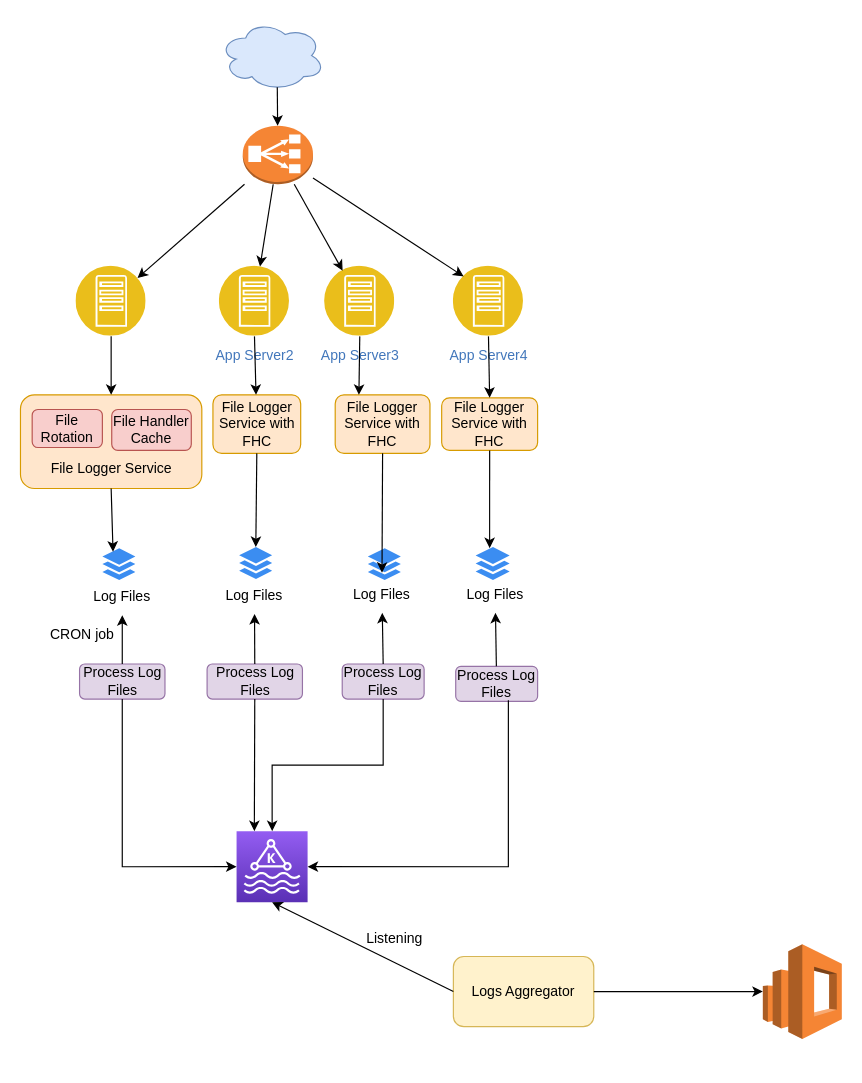
This 862x1083 diagram has some shape labels left out. Here are the shapes that lost their labels. From the top down, the centre of each, then its label:
At point 271,55: "Cloud".
At point 110,301: "App Server1".
At point 271,866: "Kafka - Log topic".
At point 802,991: "ELK".
